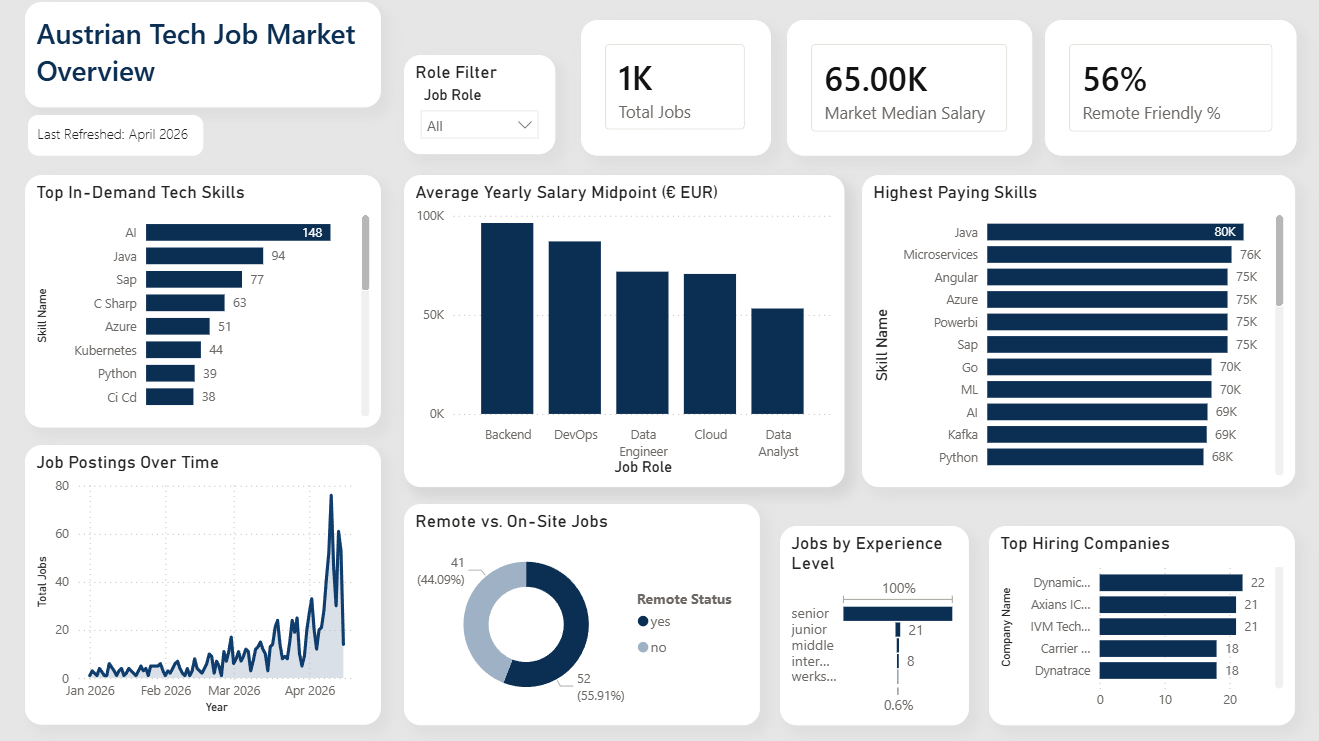

This screenshot's page, from the dashboard's own definition file:
{"tool":"powerbi","page":{"name":"Page 1","canvas":[1280,720],"ordinal":0},"visuals":[{"type":"clusteredBarChart","title":"Top In-Demand Tech Skills","fields":{"Category":["gold dim_skills.skill_name"],"Y":["gold fct_job_postings.Total Jobs"]},"box":[32.5,173.8,341.1,242.4],"z":0},{"type":"slicer","title":"Role Filter","fields":{"Values":["gold fct_job_postings.search_role"]},"box":[395.7,58.4,144.7,94.9],"z":1000},{"type":"clusteredColumnChart","title":"Average Yearly Salary Midpoint (€ EUR)","fields":{"Category":["gold fct_job_postings.search_role"],"Y":["Avg(gold fct_job_postings.salary_midpoint_yearly)"]},"box":[395.6,173.8,421.6,298.9],"z":2000},{"type":"donutChart","title":"Remote vs. On-Site Jobs","fields":{"Category":["gold fct_job_postings.is_remote"],"Y":["CountNonNull(gold fct_job_postings.job_id)"]},"box":[395.7,488.6,341.1,211.7],"z":3000},{"type":"funnel","title":"Jobs by Experience Level","fields":{"Category":["gold fct_job_postings.position_level"],"Y":["gold fct_job_postings.Total Jobs"]},"box":[755.9,509.7,181.1,190.7],"z":4000},{"type":"barChart","title":"Highest Paying Skills","fields":{"Category":["gold dim_skills.skill_name"],"Y":["Median(gold fct_job_postings.salary_midpoint_yearly)"]},"box":[834.5,173.8,414.9,298.9],"z":5000},{"type":"clusteredBarChart","title":"Top Hiring Companies","fields":{"Y":["gold fct_job_postings.Total Jobs"],"Category":["gold dim_companies.company_name"]},"box":[956.2,510.1,293.2,190.7],"z":6000},{"type":"lineChart","title":"Job Postings Over Time","fields":{"Category":["gold dim_date.full_date.Variation.Date Hierarchy.Year","gold dim_date.full_date.Variation.Date Hierarchy.Quarter","gold dim_date.full_date.Variation.Date Hierarchy.Month","gold dim_date.full_date.Variation.Date Hierarchy.Day"],"Y":["gold fct_job_postings.Total Jobs"]},"box":[32.5,432.5,341.1,268.3],"z":7000},{"type":"textbox","box":[32.6,7.7,341.1,100.6],"z":8000},{"type":"textbox","box":[35.4,115.9,167.7,39.3],"z":9000},{"type":"cardVisual","fields":{"Data":["gold fct_job_postings.Total Jobs"]},"box":[565.3,24.9,182,130.3],"z":10000},{"type":"cardVisual","fields":{"Data":["gold fct_job_postings.Market Median Salary"]},"box":[762.6,24.9,234.7,130.3],"z":11000},{"type":"cardVisual","fields":{"Data":["gold fct_job_postings.Remote Friendly %"]},"box":[1009.8,24.9,241.4,130.3],"z":12000}]}

Visuals, with their boxes in screenshot pixels (x1, y1, x2, y2), scaled from the page's 1280x720 canvas onto the 1319x741 screenshot:
"Top In-Demand Tech Skills" clusteredBarChart: x1=33, y1=179, x2=385, y2=428
"Role Filter" slicer: x1=408, y1=60, x2=557, y2=158
"Average Yearly Salary Midpoint (€ EUR)" clusteredColumnChart: x1=408, y1=179, x2=842, y2=486
"Remote vs. On-Site Jobs" donutChart: x1=408, y1=503, x2=759, y2=721
"Jobs by Experience Level" funnel: x1=779, y1=525, x2=966, y2=721
"Highest Paying Skills" barChart: x1=860, y1=179, x2=1287, y2=486
"Top Hiring Companies" clusteredBarChart: x1=985, y1=525, x2=1287, y2=721
"Job Postings Over Time" lineChart: x1=33, y1=445, x2=385, y2=721
textbox: x1=34, y1=8, x2=385, y2=111
textbox: x1=36, y1=119, x2=209, y2=160
cardVisual - gold fct_job_postings.Total Jobs: x1=583, y1=26, x2=770, y2=160
cardVisual - gold fct_job_postings.Market Median Salary: x1=786, y1=26, x2=1028, y2=160
cardVisual - gold fct_job_postings.Remote Friendly %: x1=1041, y1=26, x2=1289, y2=160
